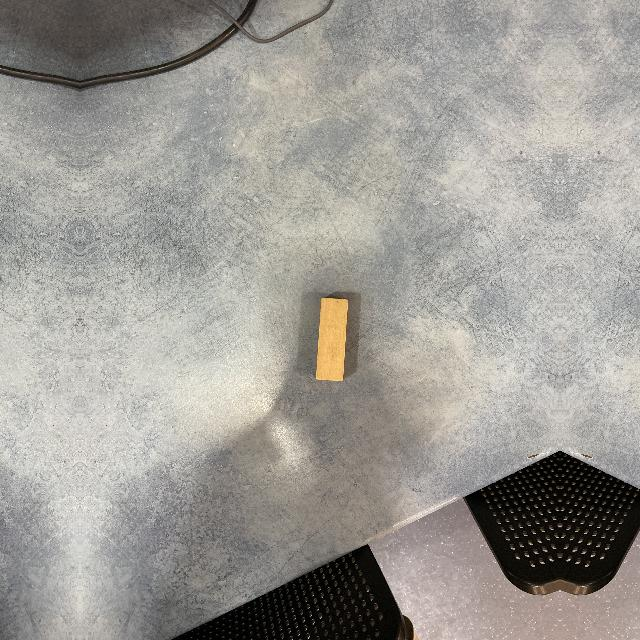jenga: (316, 296, 350, 380)
